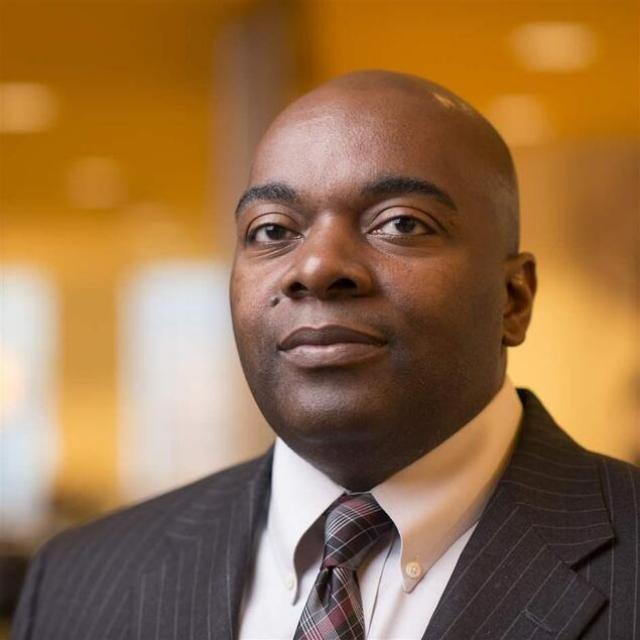Nonhelmet: (228, 53, 542, 450)
